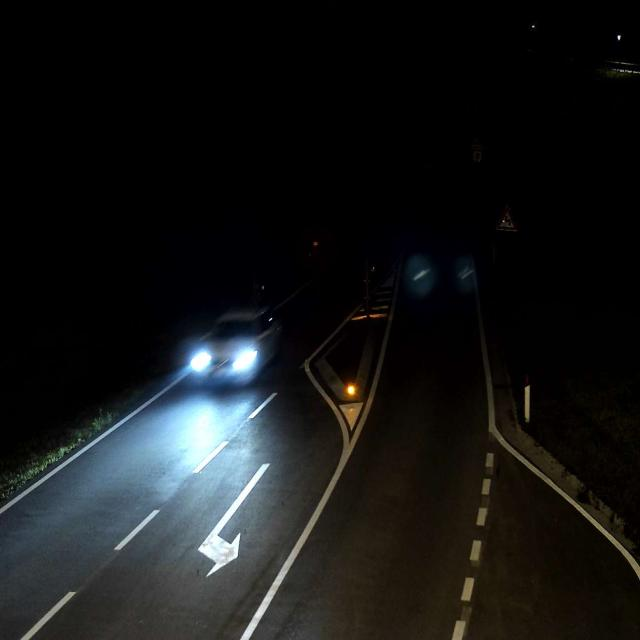car: (188, 304, 284, 387)
